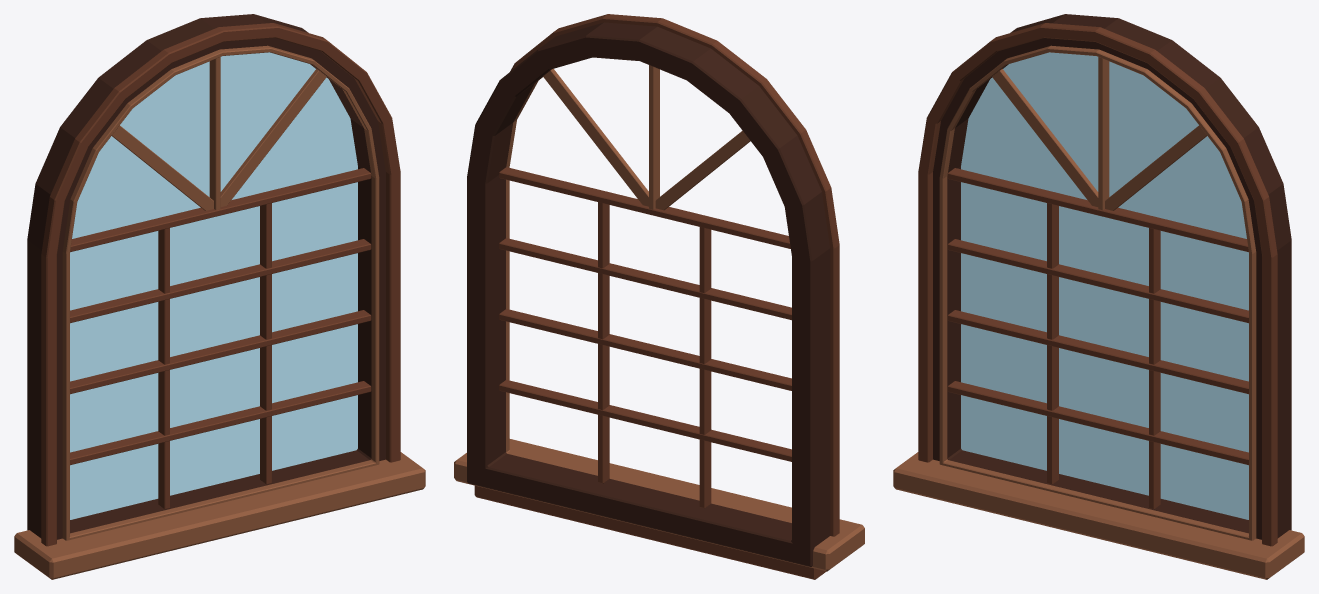
Rendered from window_05.glb.
The picture shows the model from 3 angles, left to right: view 1: azimuth 30°, elevation 25°; view 2: azimuth 150°, elevation 25°; view 3: azimuth 330°, elevation 25°; orthographic projection.
Parts seen in each view (by area): view 1: Glass, Deep_frame, Raised_moulding, Sill, Inner_bead, Transom_2, Transom_1, Transom_3, Transom_4, Mullion_2, Mullion_1, Fan_ray_1 (+2 smaller); view 2: Deep_frame, Raised_moulding, Sill, Sill_apron, Transom_3, Transom_1, Transom_2, Transom_4, Mullion_1, Mullion_2, Inner_bead, Fan_ray_1 (+2 smaller); view 3: Glass, Deep_frame, Raised_moulding, Sill, Inner_bead, Transom_2, Transom_1, Transom_3, Transom_4, Mullion_1, Mullion_2, Fan_ray_3 (+2 smaller).
Part boxes in pixels (<box>): Glass: <box>70,52,357,519</box>; Deep_frame: <box>27,14,385,539</box>; Raised_moulding: <box>41,23,400,546</box>; Sill: <box>14,452,425,579</box>; Inner_bead: <box>62,45,379,540</box>; Transom_2: <box>70,310,371,394</box>; Transom_1: <box>70,381,371,465</box>; Transom_3: <box>70,239,371,323</box>; Transom_4: <box>70,168,371,252</box>; Mullion_2: <box>260,203,271,484</box>; Mullion_1: <box>158,228,169,509</box>; Fan_ray_1: <box>213,69,326,208</box>; Deep_frame: <box>467,22,830,566</box>; Raised_moulding: <box>510,14,839,536</box>; Sill: <box>454,439,864,571</box>; Sill_apron: <box>474,485,826,579</box>; Transom_3: <box>499,238,791,320</box>; Transom_1: <box>499,379,791,461</box>; Transom_2: <box>499,309,791,390</box>; Transom_4: <box>499,167,790,248</box>; Mullion_1: <box>699,227,711,508</box>; Mullion_2: <box>598,202,609,483</box>; Inner_bead: <box>506,77,791,522</box>; Fan_ray_1: <box>543,69,648,206</box>; Glass: <box>961,52,1248,519</box>; Deep_frame: <box>933,14,1291,539</box>; Raised_moulding: <box>918,23,1277,546</box>; Sill: <box>893,452,1304,579</box>; Inner_bead: <box>939,45,1256,540</box>; Transom_2: <box>947,310,1248,394</box>; Transom_1: <box>947,381,1248,465</box>; Transom_3: <box>947,239,1248,323</box>; Transom_4: <box>947,168,1248,252</box>; Mullion_1: <box>1047,203,1058,484</box>; Mullion_2: <box>1149,228,1160,509</box>; Fan_ray_3: <box>992,69,1098,206</box>.
Bounding box in the file's own units: 2.22 × 2.87 × 0.405.
